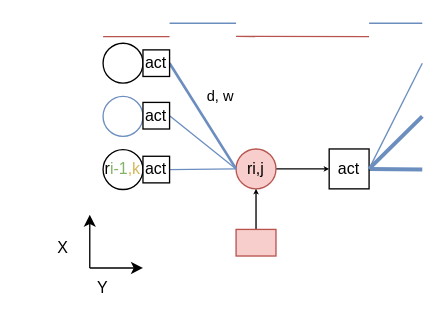
The diagram is 448 pixels wide and 331 high, and some of its shapes have lost their labels. Here are the shapes that lost their labels. From the top down, the centre of each, then its label:
At [122,115]: "r i-1, k".
At [255,242]: "bias".
